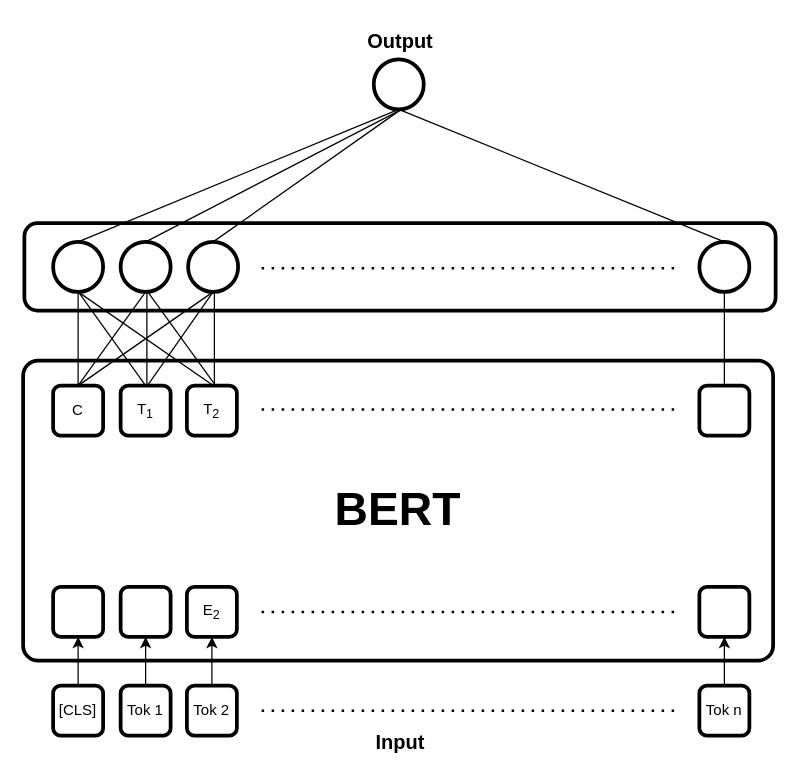
Some shapes in this 799 by 781 pixel diagram are drawn without their labels. Each missing label, with the box of its shape:
E 1: (118, 584, 172, 638)
E [CLS]: (51, 584, 104, 638)
E n: (697, 584, 751, 638)
T n: (697, 383, 751, 437)
